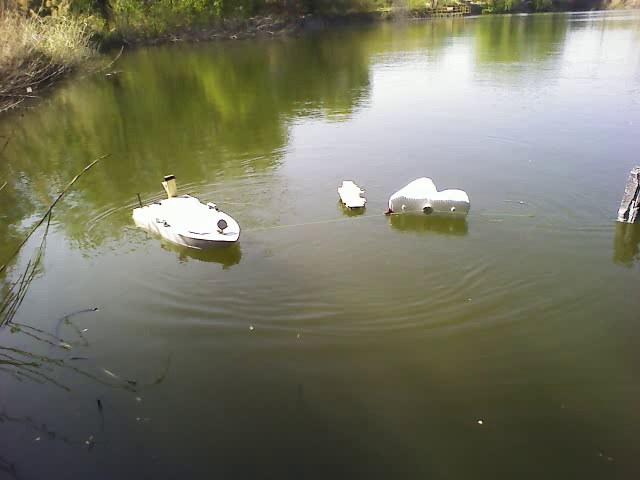aircraft_carrier: (337, 178, 371, 214)
boat: (131, 185, 245, 252)
iceberg: (387, 166, 476, 226)
rock: (607, 135, 639, 232)
